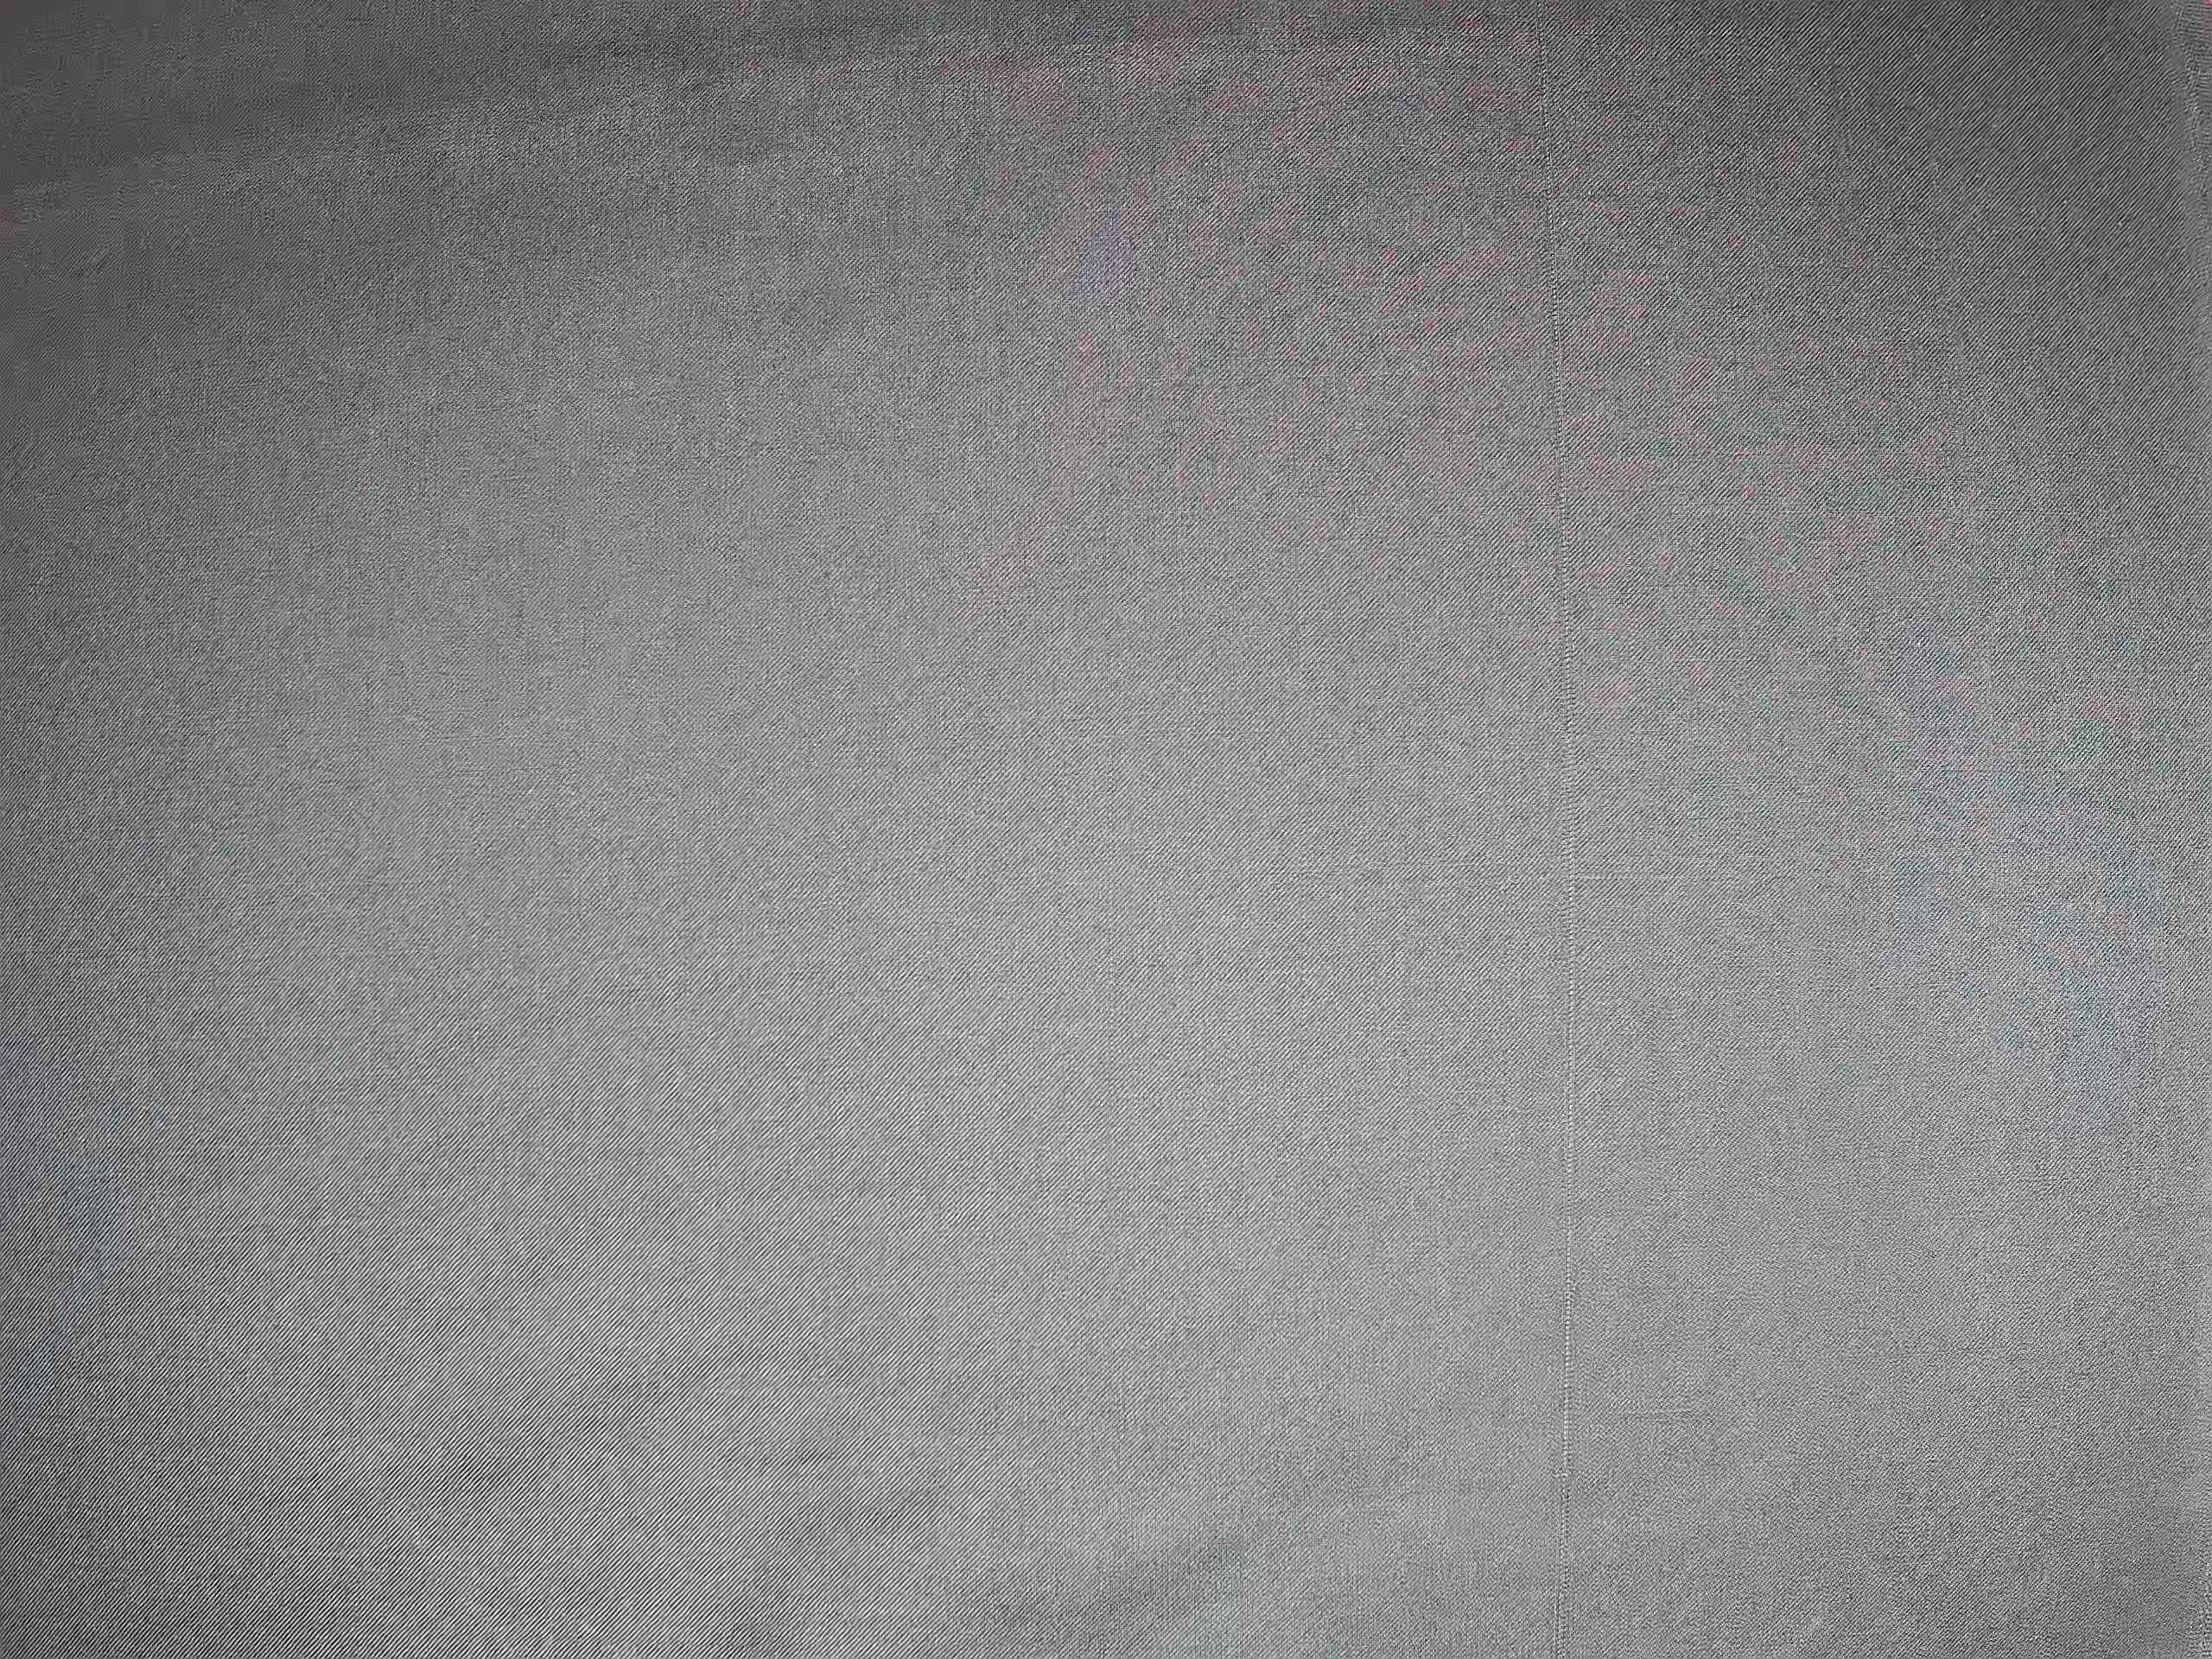hanging-warp: (1526, 2, 1587, 1656)
